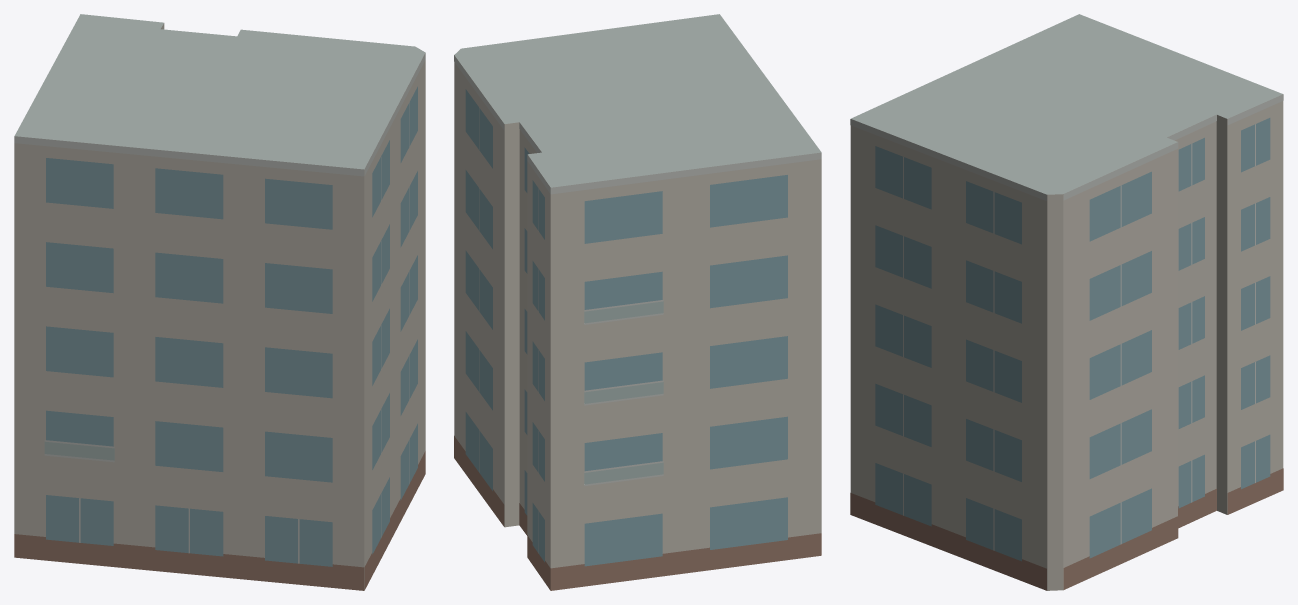
The model's file is survey-upis-32862276.glb.
3 views of the same model, side by side, from view 1: azimuth 30°, elevation 25°; view 2: azimuth 150°, elevation 25°; view 3: azimuth 270°, elevation 25° (orthographic). The views are drawn at different scales.
Visible parts, largest first — view 1: survey-upis-32862276.tmp; view 2: survey-upis-32862276.tmp; view 3: survey-upis-32862276.tmp.
Part boxes in pixels (left/top/right/bottom): survey-upis-32862276.tmp: left=14, top=14, right=425, bottom=590; survey-upis-32862276.tmp: left=454, top=14, right=821, bottom=590; survey-upis-32862276.tmp: left=850, top=14, right=1283, bottom=590.
Bounding box in the file's own units: 14.4 × 14.7 × 14.57.
